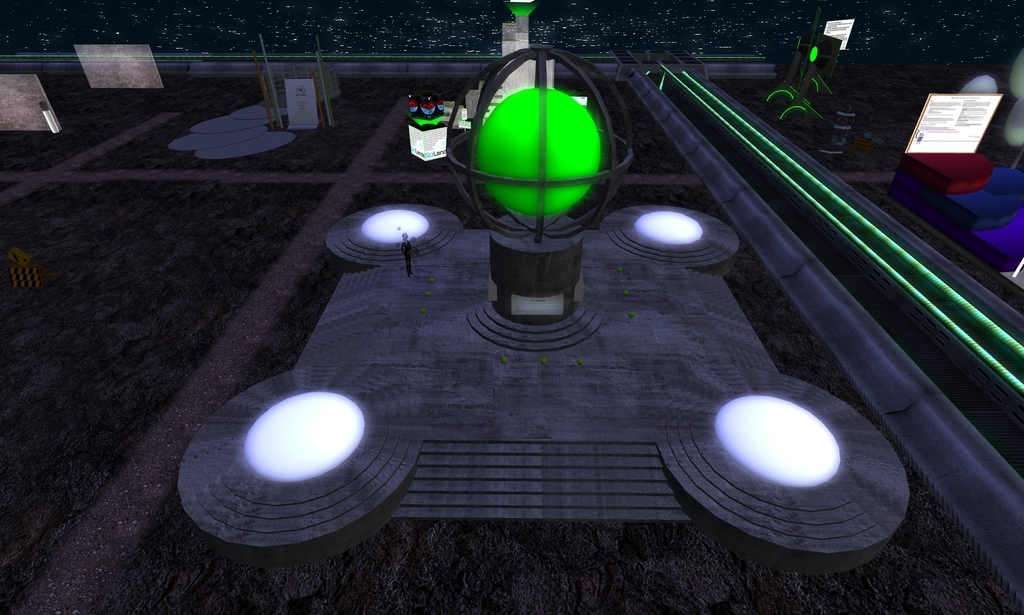Ball: (476, 86, 600, 216)
